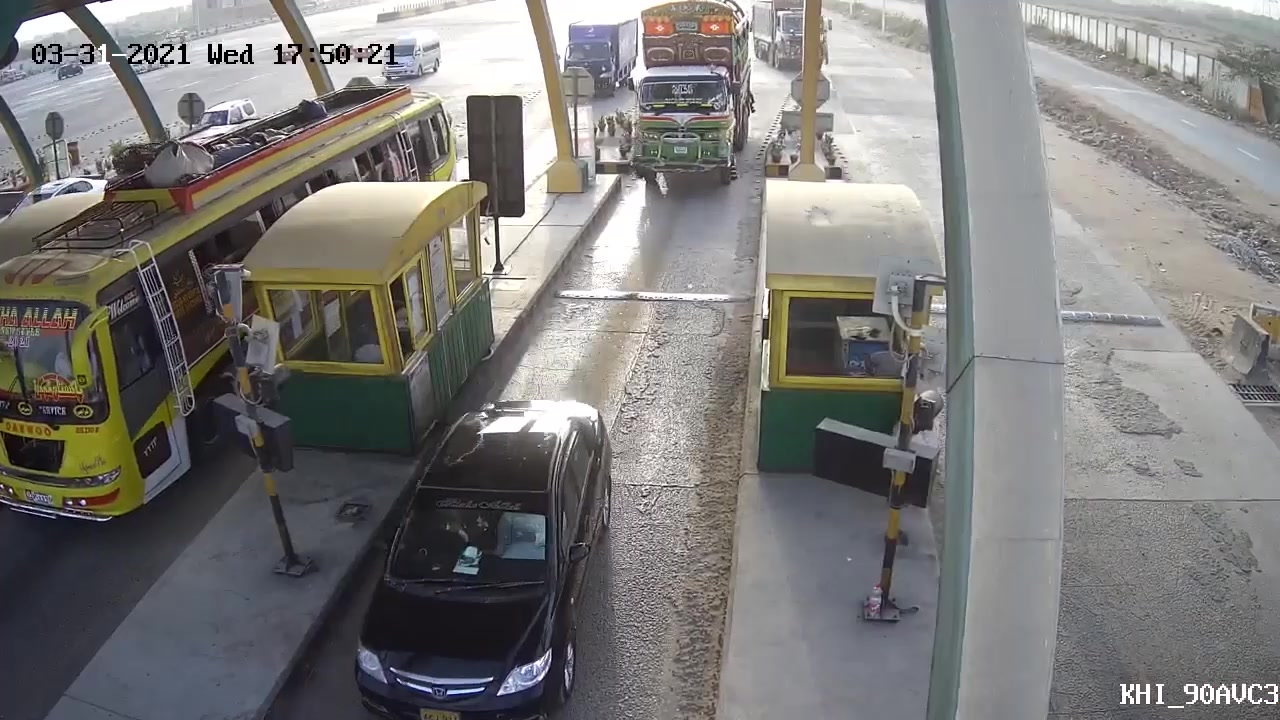F1: (353, 394, 614, 711)
F5: (634, 3, 757, 189)
